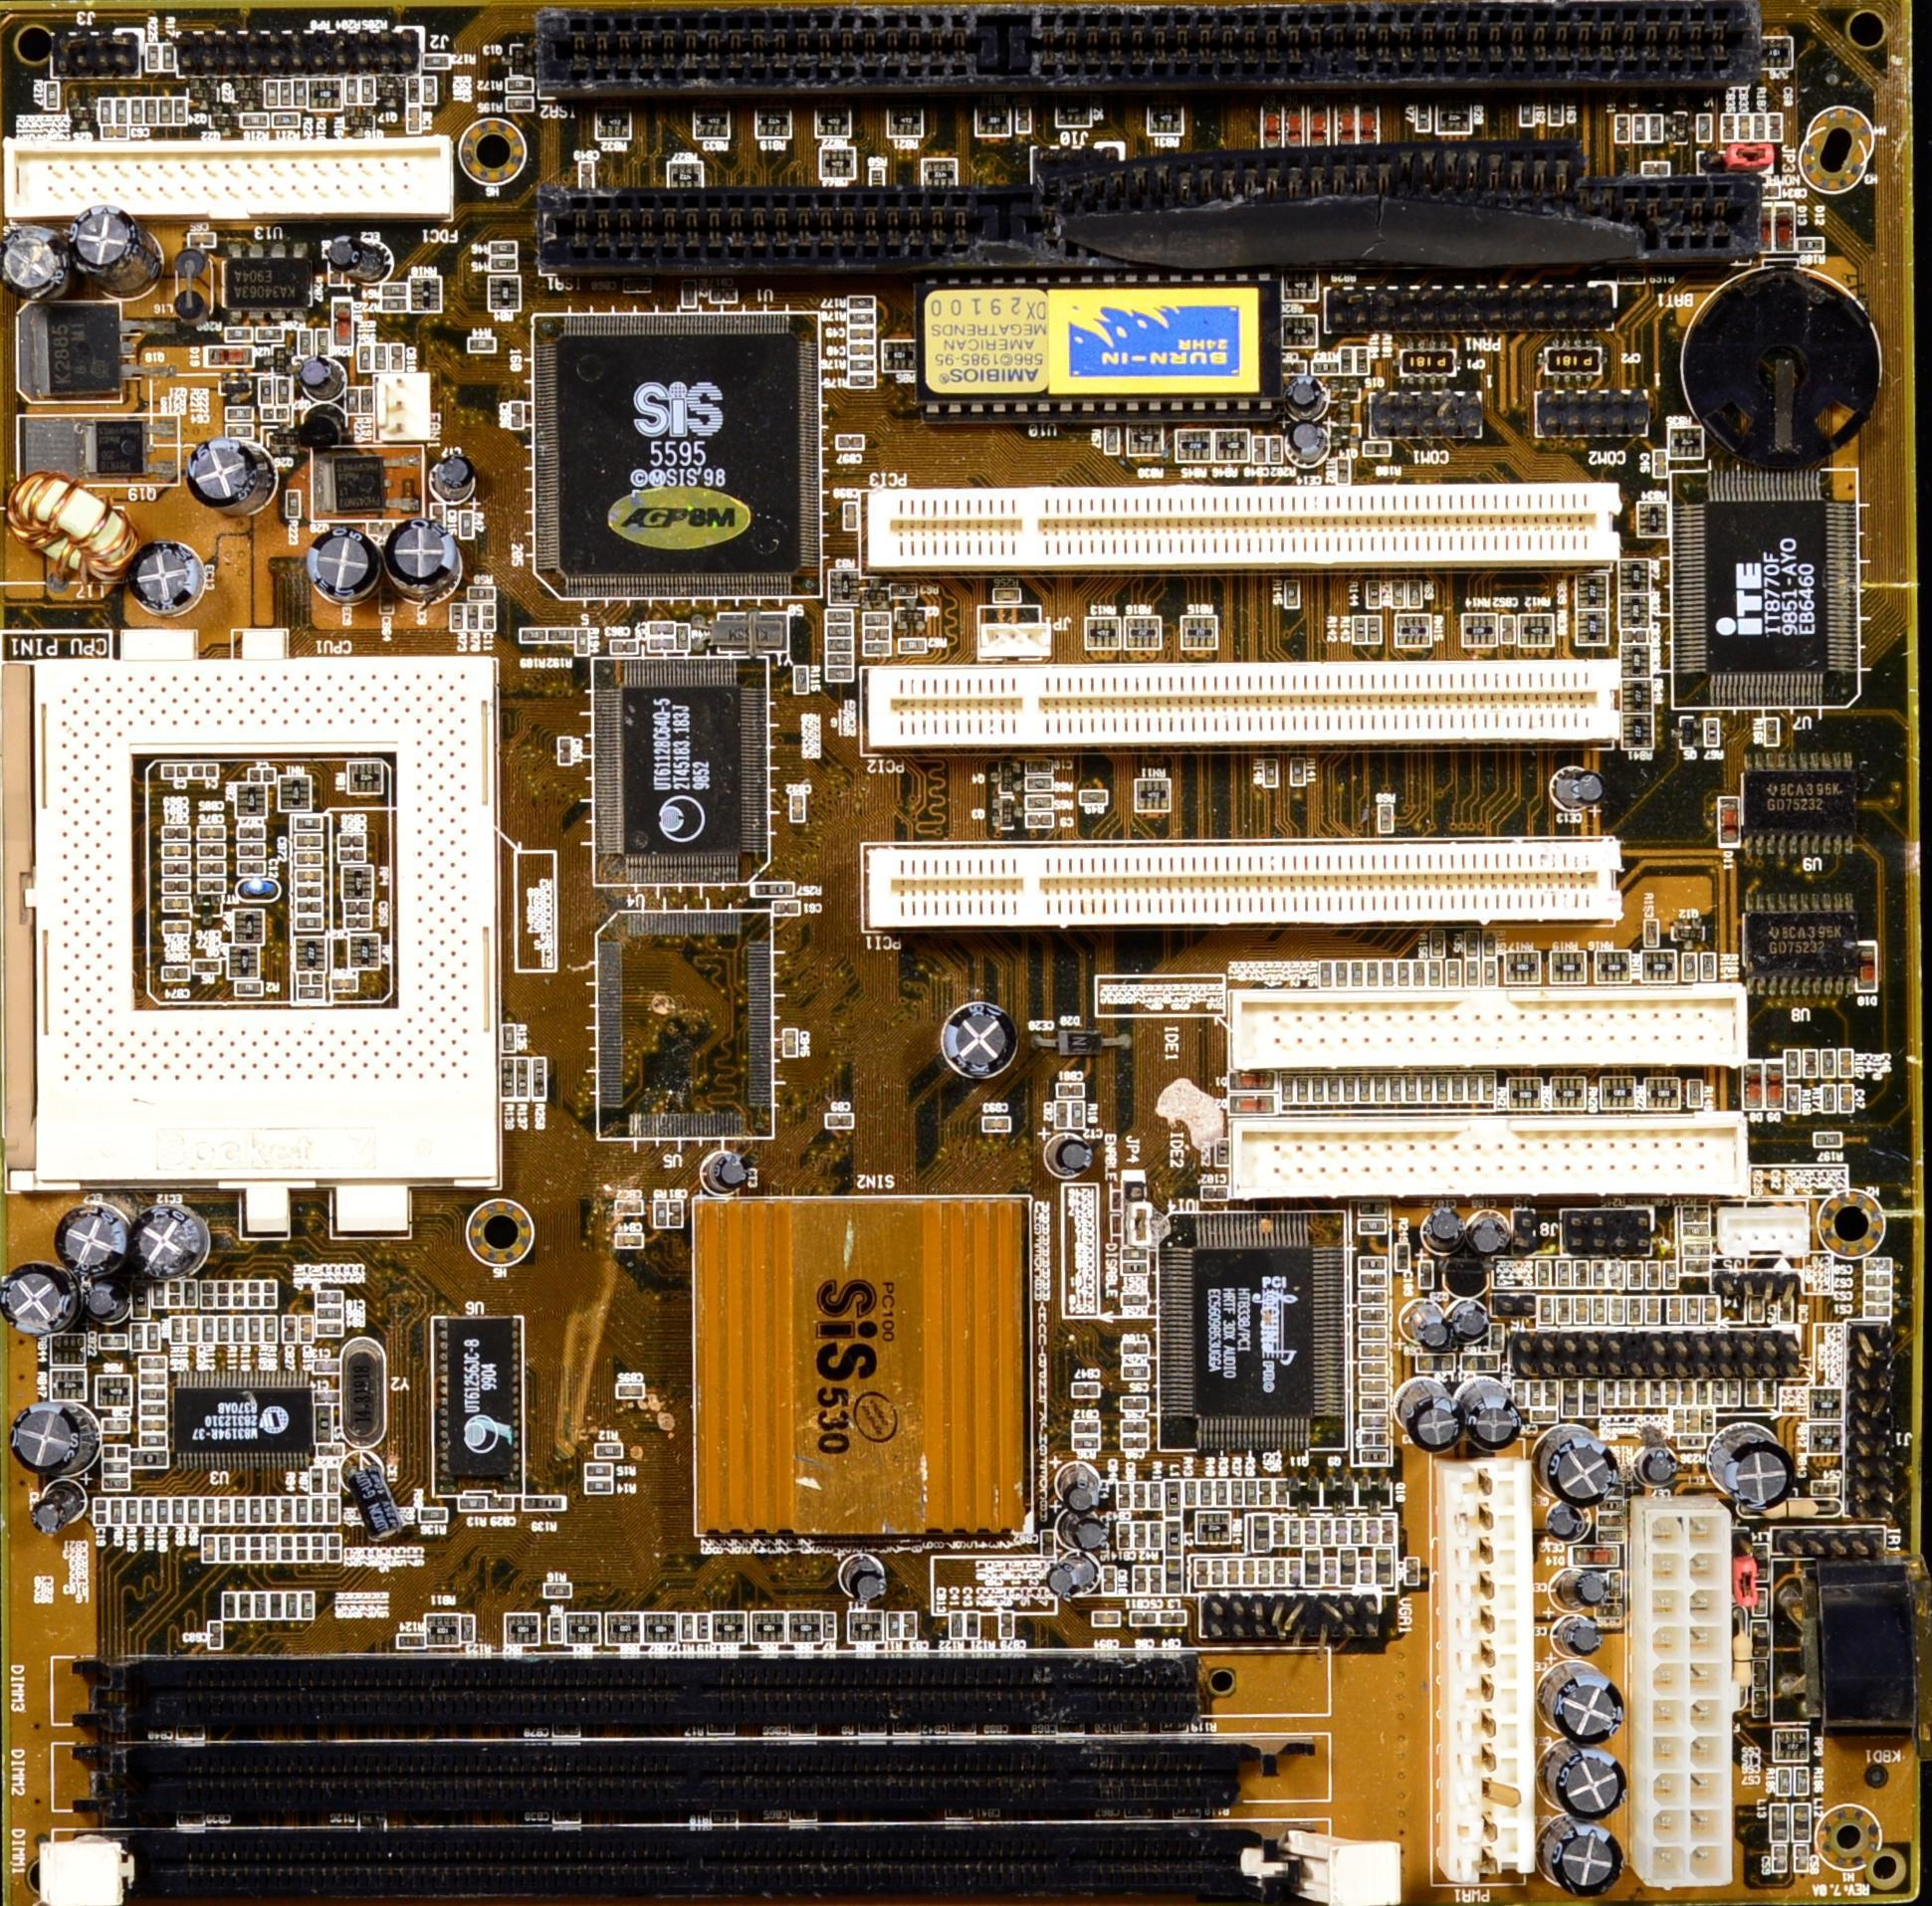Capacitor: (160, 960, 191, 984), (1129, 1605, 1163, 1629), (159, 917, 198, 936), (159, 761, 188, 783), (788, 788, 808, 824), (1772, 1840, 1790, 1876), (1152, 1608, 1185, 1627), (190, 760, 223, 780), (197, 821, 231, 839), (234, 821, 268, 839), (312, 1532, 329, 1568), (614, 1381, 646, 1400), (295, 1533, 314, 1564), (982, 1115, 1010, 1136), (265, 1533, 283, 1566), (1090, 1609, 1125, 1626), (338, 845, 372, 862), (161, 878, 193, 895), (1055, 1081, 1085, 1100), (215, 1281, 234, 1311), (283, 1313, 303, 1342), (850, 337, 880, 356), (836, 432, 865, 451), (1838, 1083, 1854, 1114), (1117, 1478, 1134, 1510), (247, 1534, 267, 1561), (336, 833, 372, 848), (196, 842, 230, 857), (344, 917, 375, 934), (772, 900, 800, 918), (1091, 1611, 1125, 1626), (295, 882, 328, 897), (614, 1232, 644, 1249), (1861, 1256, 1891, 1274), (1241, 1560, 1258, 1589), (1131, 1564, 1148, 1593), (1129, 1609, 1160, 1626), (646, 621, 676, 639), (160, 825, 191, 841), (236, 858, 267, 875), (162, 897, 194, 914), (296, 917, 326, 933), (825, 1112, 853, 1130), (615, 1198, 643, 1217), (167, 1275, 182, 1309), (247, 1280, 264, 1307), (232, 1281, 249, 1310), (328, 1536, 346, 1564), (235, 1537, 253, 1564), (849, 356, 876, 374), (647, 637, 676, 654), (1861, 1273, 1891, 1289), (280, 1533, 296, 1563), (1024, 758, 1054, 775), (783, 1026, 798, 1060), (1861, 1304, 1889, 1321), (842, 504, 858, 530), (1054, 1101, 1069, 1130), (1737, 112, 1752, 139), (1769, 112, 1784, 139), (1722, 112, 1736, 143), (300, 1315, 316, 1343), (200, 1536, 217, 1565), (1148, 1567, 1164, 1595), (610, 638, 639, 655), (1027, 812, 1055, 827), (198, 863, 228, 877), (332, 977, 360, 993), (296, 834, 329, 846), (556, 734, 571, 762), (347, 901, 376, 915), (1863, 1290, 1890, 1306), (1501, 614, 1516, 641), (241, 843, 267, 858), (101, 126, 134, 138), (999, 1610, 1014, 1639), (1255, 436, 1268, 464), (296, 853, 323, 868), (297, 901, 325, 915), (1119, 1521, 1132, 1552), (1102, 1567, 1117, 1591), (510, 405, 525, 429), (379, 583, 391, 615), (670, 1200, 684, 1227), (201, 1280, 214, 1306), (264, 1282, 278, 1308), (390, 343, 404, 370), (298, 870, 324, 883), (847, 326, 876, 338), (161, 844, 190, 857), (1277, 1478, 1289, 1507), (1197, 1558, 1209, 1585), (210, 1623, 223, 1648), (96, 1499, 108, 1525), (905, 1612, 916, 1638), (164, 862, 193, 873), (1260, 1481, 1272, 1507), (1133, 1482, 1145, 1507), (1228, 1560, 1241, 1586), (200, 879, 226, 892), (1796, 1845, 1806, 1872), (431, 504, 445, 526), (483, 605, 498, 627)
Connector: (1023, 0, 1785, 101), (516, 0, 1023, 104), (1443, 1461, 1548, 1881), (1641, 1501, 1737, 1890), (164, 24, 456, 85), (15, 17, 137, 82)
IC: (537, 310, 831, 593), (1681, 466, 1876, 712), (1157, 1206, 1364, 1435), (588, 665, 776, 887), (435, 1296, 531, 1489), (156, 1366, 316, 1471)
Resistor: (1127, 424, 1173, 459), (1175, 426, 1211, 466), (1667, 426, 1705, 463), (1181, 615, 1219, 650), (409, 275, 441, 317), (1394, 611, 1429, 647), (1134, 777, 1169, 815), (1577, 572, 1610, 612), (1463, 613, 1498, 647), (1085, 615, 1121, 650), (426, 1614, 463, 1647), (815, 107, 853, 139), (1124, 616, 1161, 648), (1145, 105, 1183, 134), (694, 111, 733, 141), (1214, 431, 1247, 464), (1521, 615, 1556, 646), (848, 1609, 879, 1643), (1577, 610, 1610, 643), (755, 109, 790, 139), (456, 1497, 519, 1513), (489, 277, 520, 309), (887, 107, 922, 136), (597, 111, 631, 139), (830, 573, 861, 603), (282, 1589, 305, 1622), (292, 809, 327, 830), (750, 882, 796, 897), (252, 1590, 274, 1621), (1386, 1072, 1404, 1107), (217, 1530, 235, 1564), (1443, 957, 1462, 992), (248, 1318, 269, 1350), (898, 636, 928, 657), (226, 323, 258, 342), (792, 665, 811, 699), (190, 957, 226, 976), (237, 1589, 256, 1621), (1797, 236, 1824, 256), (1482, 1070, 1500, 1104), (1366, 959, 1382, 992), (233, 979, 266, 996), (1371, 1073, 1389, 1103), (302, 1589, 321, 1620), (267, 1590, 287, 1620), (187, 1314, 204, 1346), (847, 294, 878, 312), (1104, 426, 1121, 457), (1284, 575, 1300, 610), (1262, 754, 1278, 789), (45, 80, 63, 111), (1683, 951, 1698, 985), (1448, 1075, 1468, 1103), (1463, 1071, 1476, 1110), (1291, 756, 1307, 788), (1343, 1073, 1360, 1104), (1786, 1084, 1803, 1113), (1255, 1559, 1273, 1588), (1271, 1559, 1288, 1588), (222, 1592, 240, 1622), (594, 1443, 625, 1459), (1430, 928, 1446, 957), (152, 1281, 169, 1309), (232, 1317, 249, 1345), (1794, 1766, 1809, 1800), (1466, 960, 1483, 987), (217, 1318, 235, 1343), (583, 1462, 613, 1479), (1286, 1560, 1302, 1589), (966, 1610, 980, 1641), (297, 987, 330, 1001), (202, 1318, 220, 1345), (1318, 1517, 1335, 1544), (468, 336, 494, 354), (1483, 961, 1501, 987), (1436, 1073, 1451, 1101), (1357, 1073, 1373, 1102), (1311, 1075, 1326, 1104), (1296, 1075, 1312, 1103), (172, 1317, 189, 1344), (1185, 1477, 1199, 1508), (417, 1508, 448, 1522), (1151, 1520, 1165, 1552), (543, 1585, 573, 1599), (950, 1611, 965, 1638), (345, 387, 361, 415), (1391, 579, 1405, 611), (575, 627, 589, 658), (506, 80, 535, 96), (1335, 958, 1351, 985), (241, 114, 271, 129), (1215, 1477, 1228, 1507), (1231, 1478, 1245, 1509), (227, 403, 257, 418), (450, 602, 465, 632), (1705, 718, 1719, 747), (1023, 796, 1052, 810), (1427, 960, 1442, 989), (1281, 1077, 1297, 1104), (1333, 1520, 1349, 1546), (398, 1634, 424, 1649), (848, 375, 875, 390), (423, 52, 449, 68), (522, 627, 547, 642), (1702, 955, 1717, 980), (1410, 959, 1425, 986), (1318, 963, 1333, 990), (226, 424, 259, 436), (162, 38, 174, 72), (525, 1499, 564, 1510), (1420, 1073, 1434, 1101), (654, 1198, 668, 1227), (266, 1315, 279, 1342), (1245, 1478, 1259, 1506), (1150, 1483, 1164, 1511), (1349, 1518, 1364, 1546), (461, 1613, 475, 1641), (379, 283, 406, 297), (849, 313, 877, 326), (373, 341, 387, 369), (1269, 436, 1282, 464), (286, 490, 300, 519), (1024, 776, 1052, 791), (583, 1482, 614, 1495), (1352, 618, 1368, 643), (1645, 920, 1658, 952), (506, 96, 533, 110), (1072, 1102, 1085, 1127), (1365, 1520, 1380, 1546), (1290, 1521, 1304, 1547), (1778, 1768, 1793, 1795), (490, 243, 517, 257), (358, 346, 371, 371), (460, 511, 474, 538), (1380, 805, 1394, 830), (1350, 960, 1364, 986), (1383, 960, 1395, 986), (1753, 110, 1765, 139), (184, 1280, 198, 1310), (203, 1496, 215, 1525), (489, 260, 518, 272), (1465, 930, 1478, 960), (1407, 1078, 1418, 1106), (1822, 1086, 1835, 1111), (408, 105, 423, 129), (280, 1497, 293, 1523), (361, 387, 374, 415), (146, 42, 158, 71), (1396, 960, 1408, 987), (1689, 1080, 1702, 1107), (1202, 1478, 1214, 1504), (888, 1613, 900, 1638), (823, 1614, 835, 1640), (1368, 579, 1381, 606), (547, 629, 574, 640), (1840, 1047, 1851, 1077), (312, 1498, 324, 1522), (173, 1497, 184, 1522), (265, 1498, 278, 1523), (297, 1498, 309, 1523), (157, 1499, 169, 1524), (1340, 350, 1353, 375), (1483, 931, 1496, 955), (1134, 1523, 1145, 1551), (1212, 1561, 1224, 1588), (257, 330, 284, 340), (1410, 581, 1421, 609), (1328, 1078, 1341, 1102), (188, 1499, 201, 1523), (219, 1501, 231, 1524), (1305, 1520, 1317, 1544), (1358, 348, 1369, 375), (327, 1501, 340, 1522), (251, 1501, 262, 1525), (469, 602, 479, 630), (274, 114, 297, 126), (234, 1502, 246, 1521), (112, 1501, 121, 1523), (127, 1501, 137, 1522), (142, 1499, 152, 1524)
